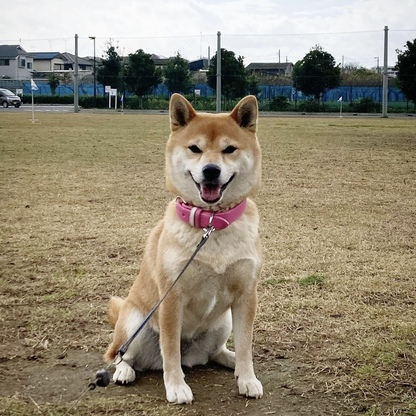shiba: (86, 88, 287, 410)
